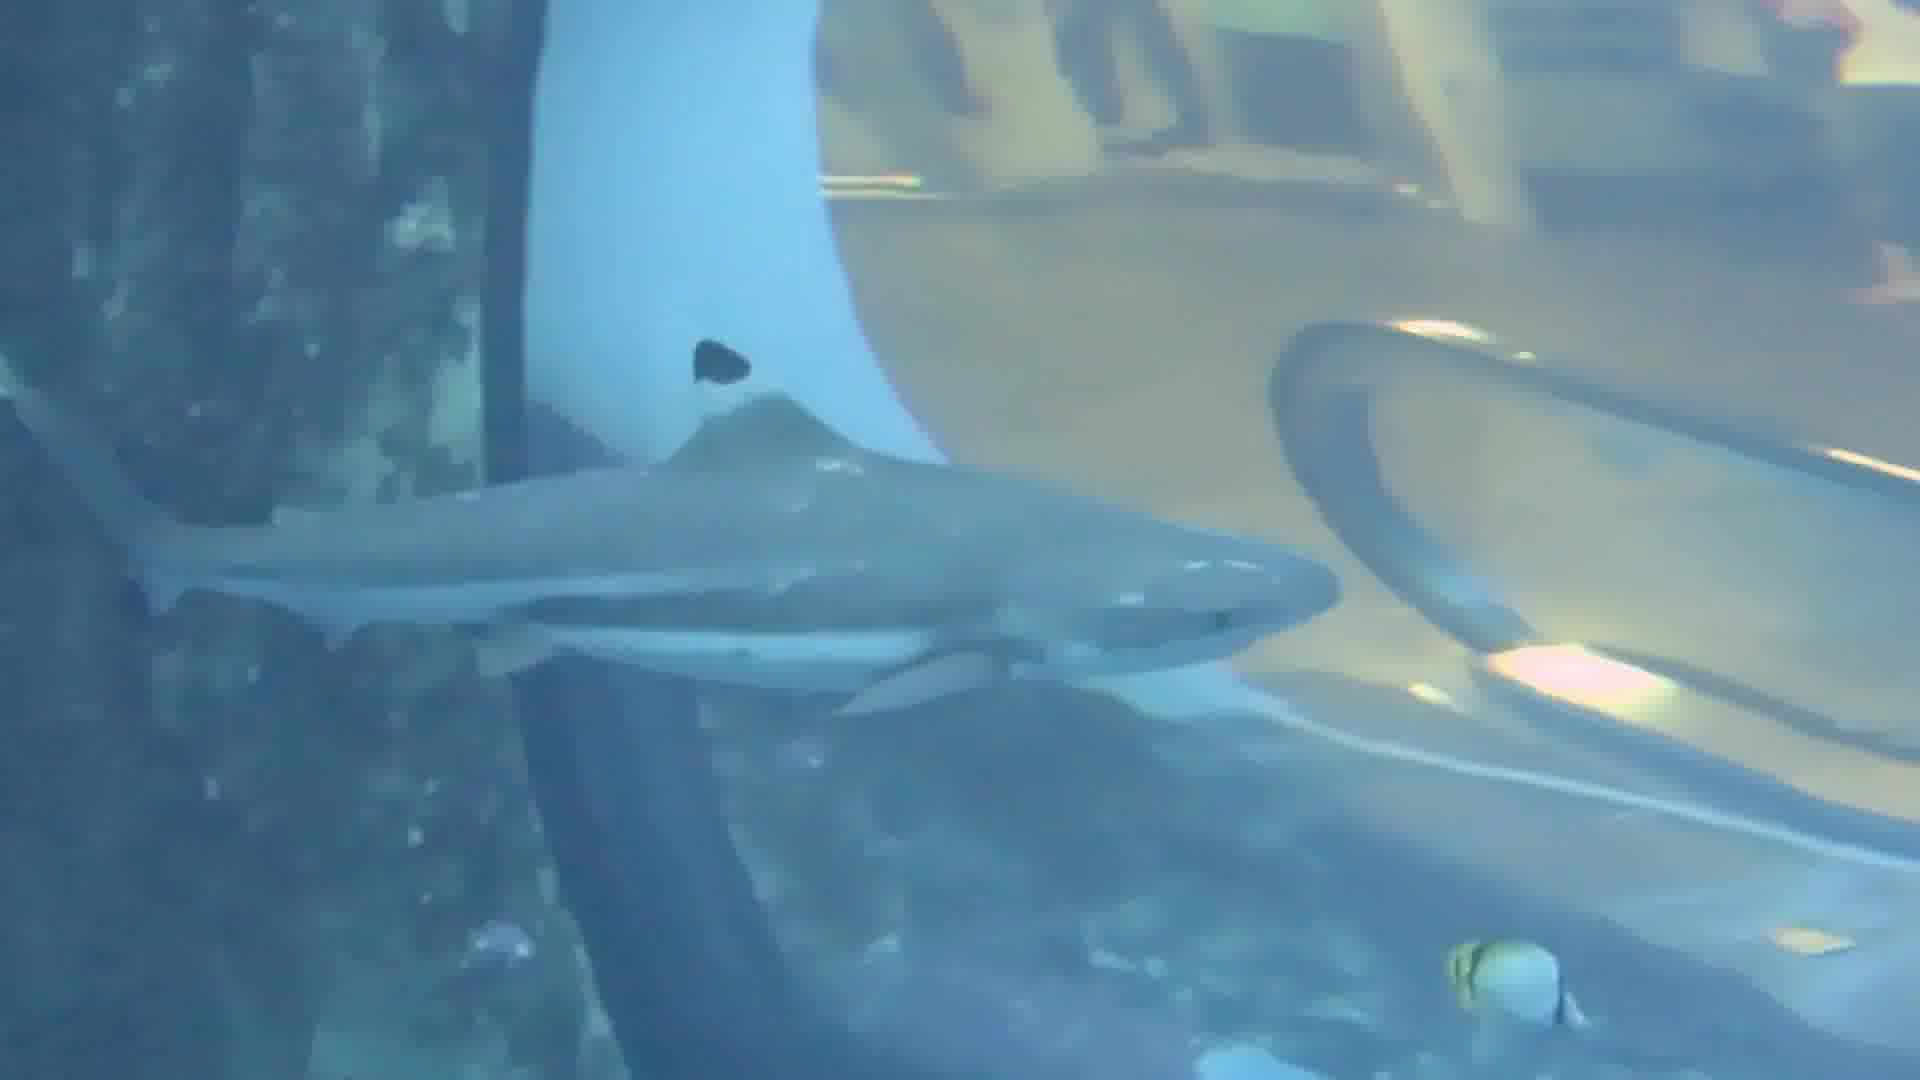Carcharhinus melanopterus: (1, 301, 1378, 764)
